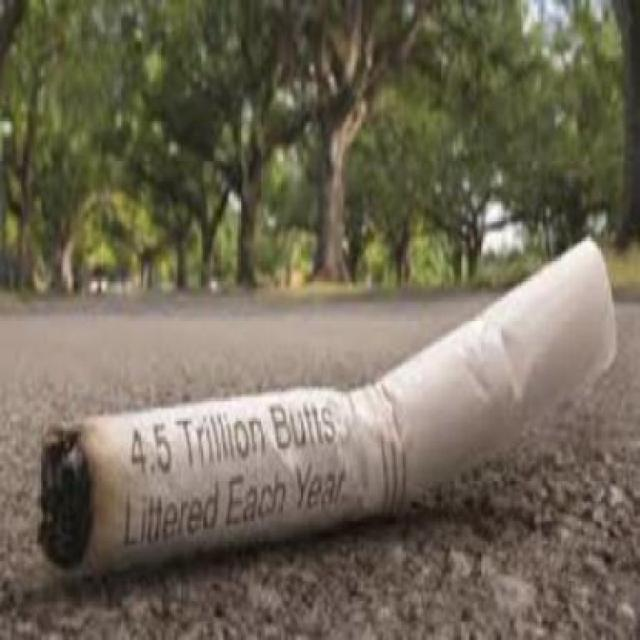cigarette: (39, 198, 616, 598)
